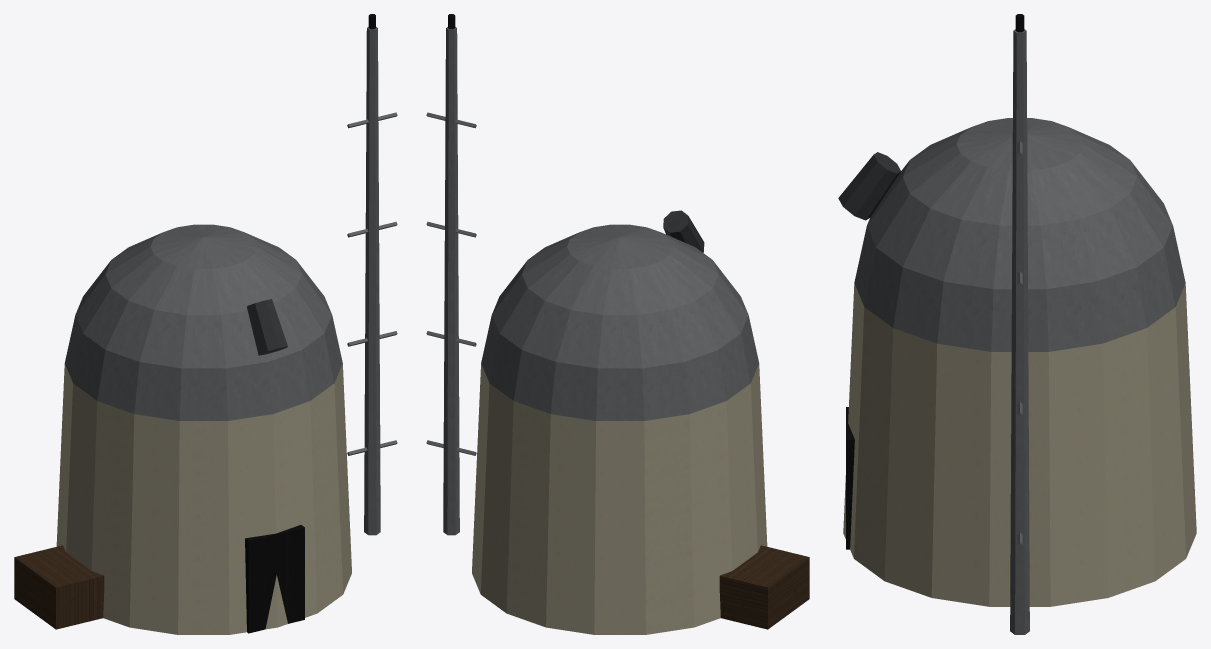
File: frost_observatory_01.glb
3 renders of one model, left to right at view 1: azimuth 30°, elevation 25°; view 2: azimuth 150°, elevation 25°; view 3: azimuth 270°, elevation 25°, orthographic. The views are drawn at different scales.
Parts seen in each view (by area): view 1: frost_observatory_01; view 2: frost_observatory_01; view 3: frost_observatory_01.
Part boxes in pixels (left/top/right/bottom): frost_observatory_01: left=14, top=14, right=397, bottom=634; frost_observatory_01: left=426, top=14, right=809, bottom=634; frost_observatory_01: left=838, top=14, right=1196, bottom=634.
Size of the model in its own units: 9 by 12.3 by 6.49.
Materials: 5 (5 with a texture image).
